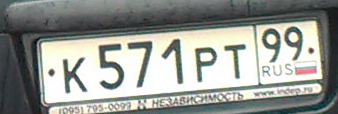character: (125, 40, 154, 90), (97, 43, 126, 90), (160, 38, 189, 85), (221, 42, 249, 82), (61, 56, 90, 94), (194, 45, 218, 85), (284, 25, 304, 64), (261, 28, 282, 64)
